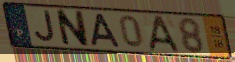0: (118, 14, 146, 50)
8: (177, 16, 206, 55)
A: (148, 14, 182, 53), (89, 12, 123, 49)
J: (34, 9, 58, 45)
N: (54, 8, 91, 48)
